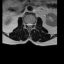CCS_stenosis: (28, 21, 30, 28)
LFS_normal: (32, 21, 34, 27)
LLS_normal: (30, 21, 32, 27)
RFS_normal: (25, 21, 27, 27)
RLS_normal: (27, 21, 28, 27)
